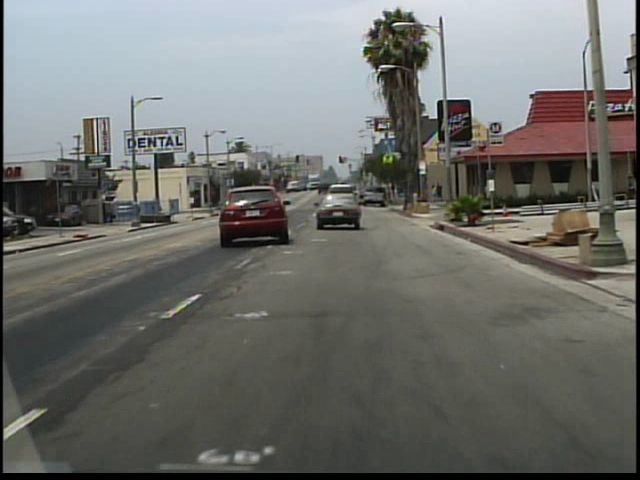person: (429, 183, 436, 204), (437, 181, 444, 202)
